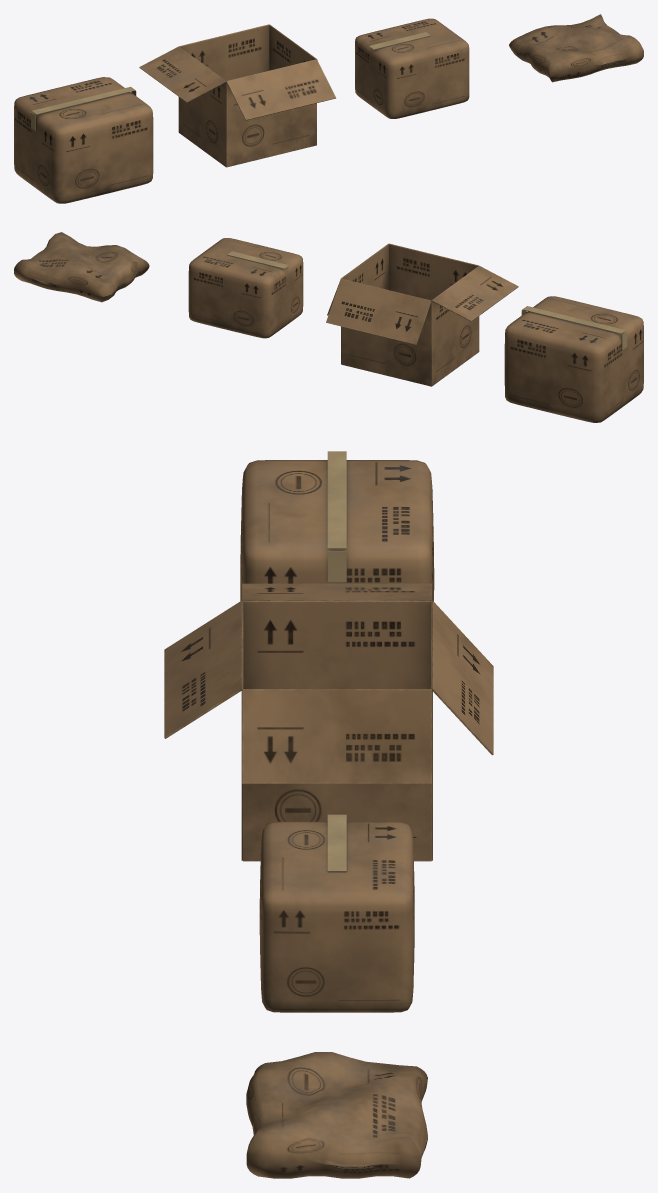
File: CardboardBoxes.fbx
3 views of the same model, one above another, from view 1: azimuth 30°, elevation 25°; view 2: azimuth 150°, elevation 25°; view 3: azimuth 270°, elevation 25° (orthographic). The views are drawn at different scales.
Parts seen in each view (by area): view 1: Box_Open, Box_Closed, Box_Small, Box_Crushed; view 2: Box_Open, Box_Closed, Box_Small, Box_Crushed; view 3: Box_Open, Box_Small, Box_Closed, Box_Crushed.
Boxes of the visible parts, x1,y1,x2,y2 form: Box_Open: (139, 24, 335, 167); Box_Closed: (14, 77, 153, 203); Box_Small: (355, 18, 469, 118); Box_Crushed: (509, 14, 643, 82); Box_Open: (326, 243, 518, 386); Box_Closed: (504, 296, 643, 422); Box_Small: (188, 238, 303, 338); Box_Crushed: (14, 232, 149, 302); Box_Open: (164, 583, 493, 861); Box_Small: (259, 814, 414, 1012); Box_Closed: (240, 451, 434, 601); Box_Crushed: (246, 1052, 427, 1178).
Size of the model in its own units: 3.59 by 0.5119 by 0.8688.
